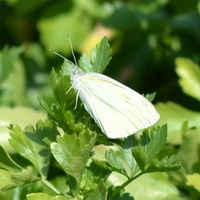insect: (50, 50, 159, 138)
